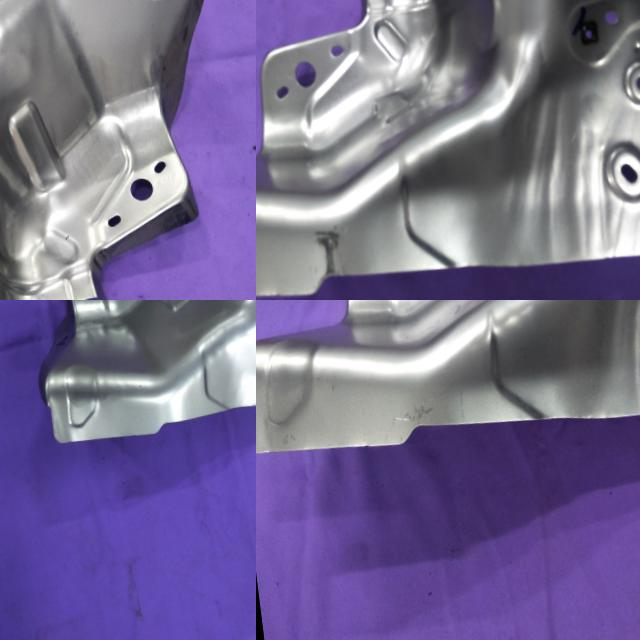Healthy: (256, 0, 640, 300), (256, 300, 640, 476), (14, 300, 256, 449)
